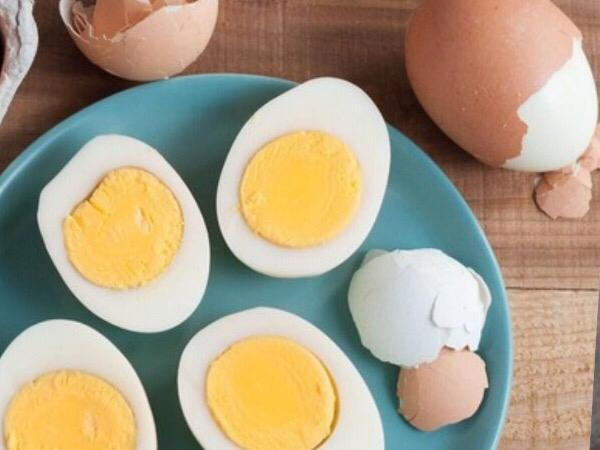Telur: (180, 85, 395, 286), (28, 119, 220, 327), (175, 311, 396, 450), (2, 293, 155, 450)
